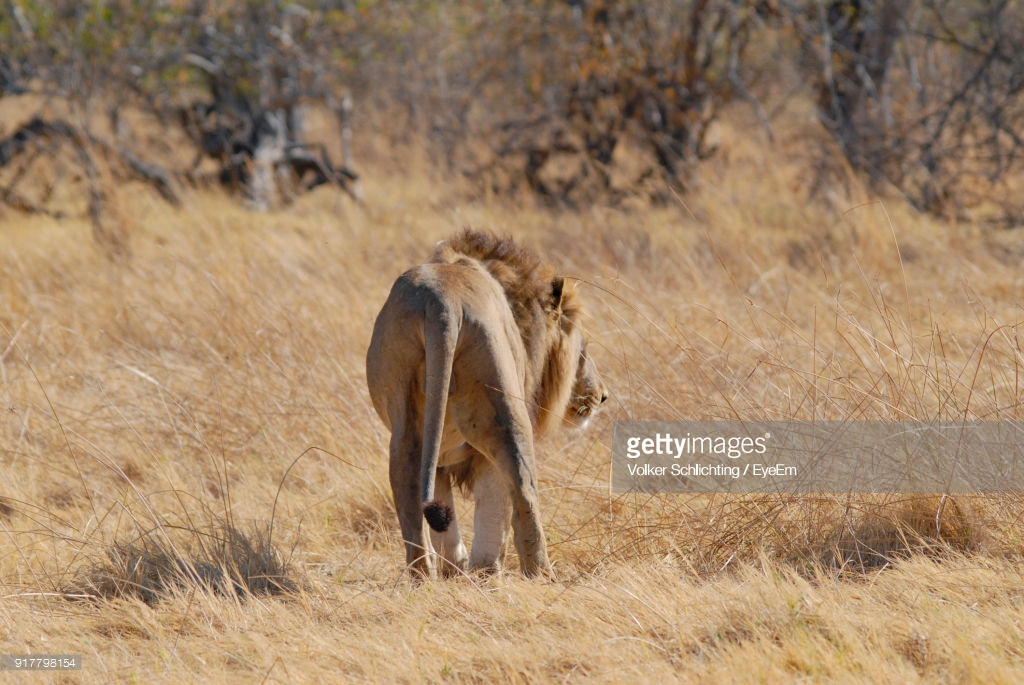lion: (361, 227, 610, 576)
